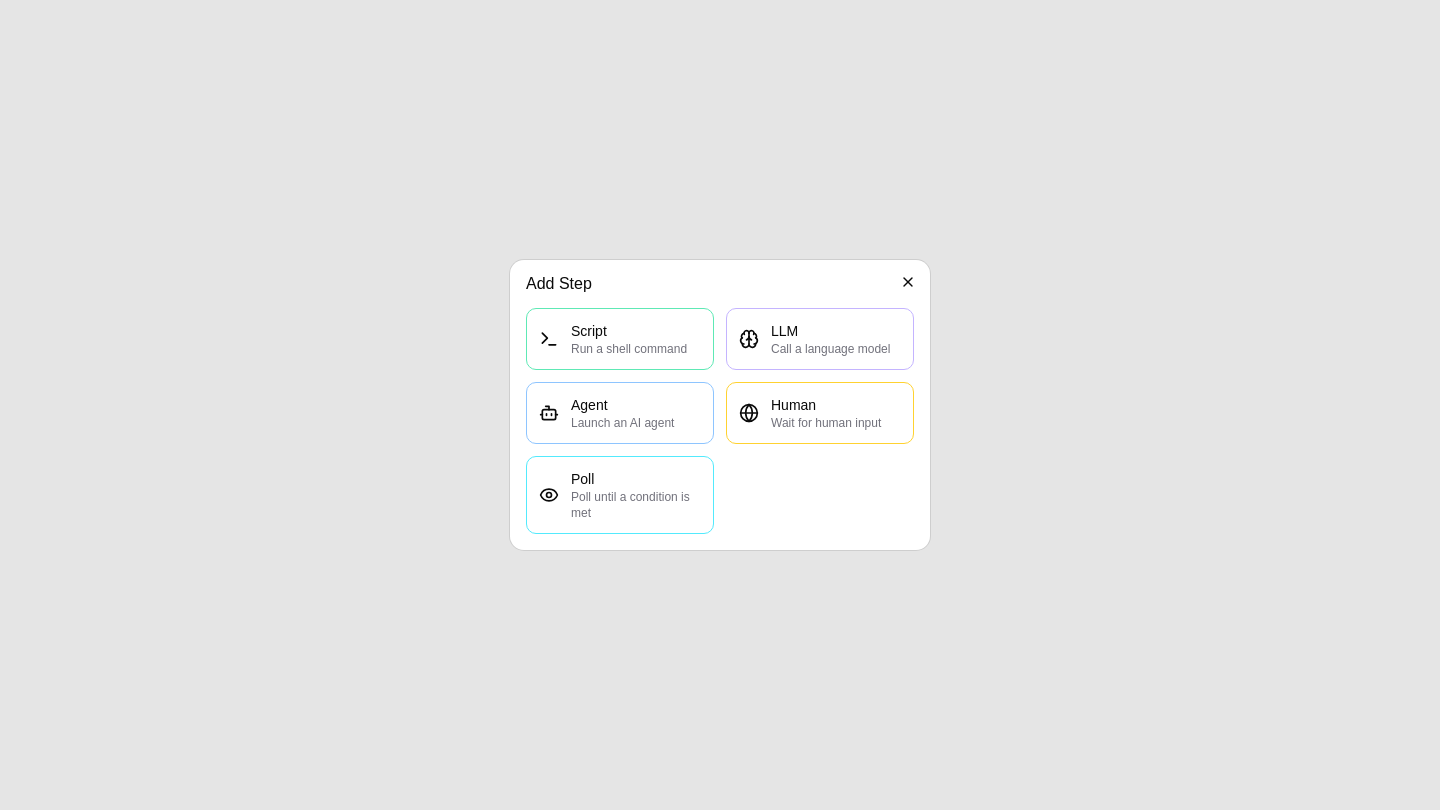
Scenario: StepPalette › back button returns to type selection
Step 1. Click the text "Script" → (589, 331), box [571,323,607,339]
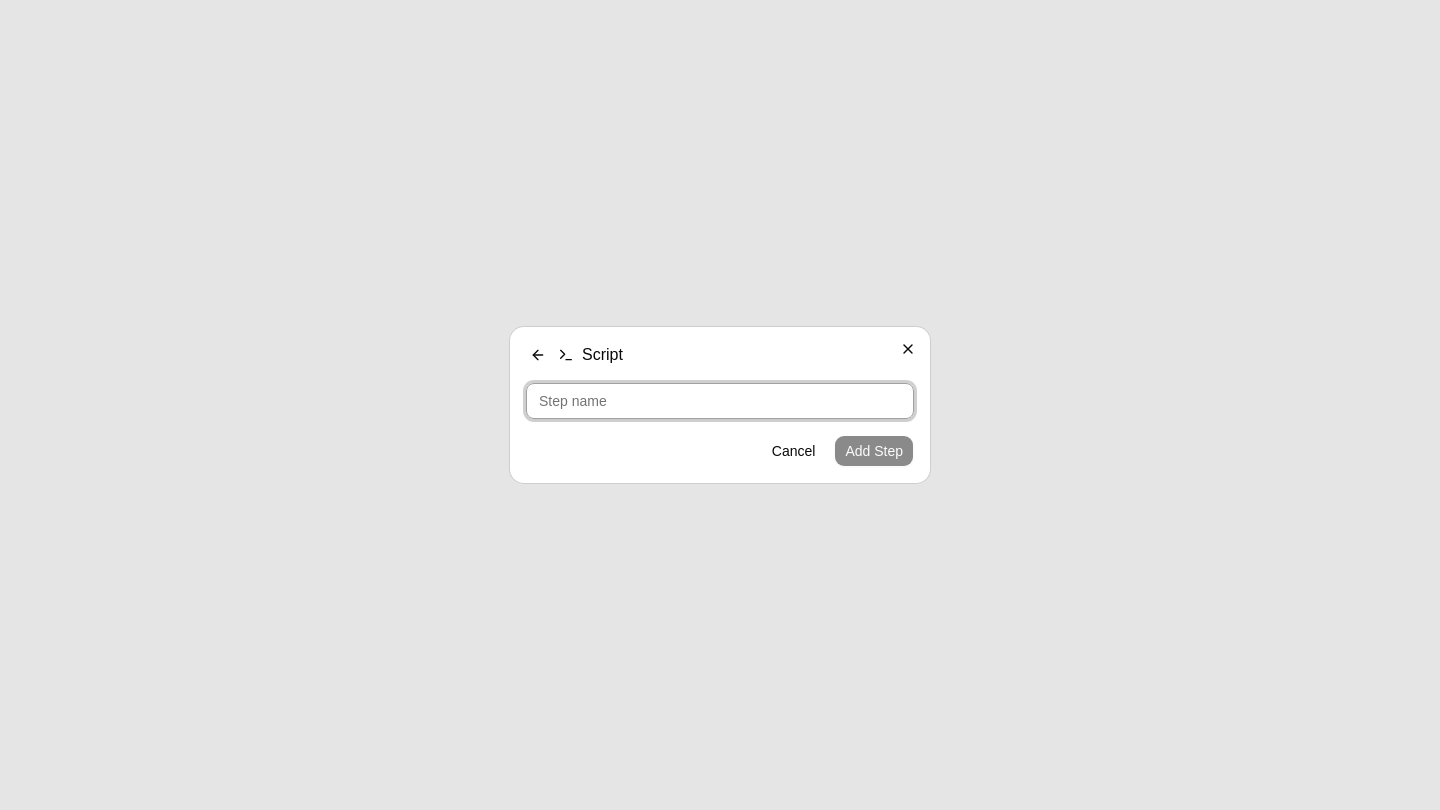
Step 2. Click the button titled "back" → (538, 355), box [526,343,550,367]
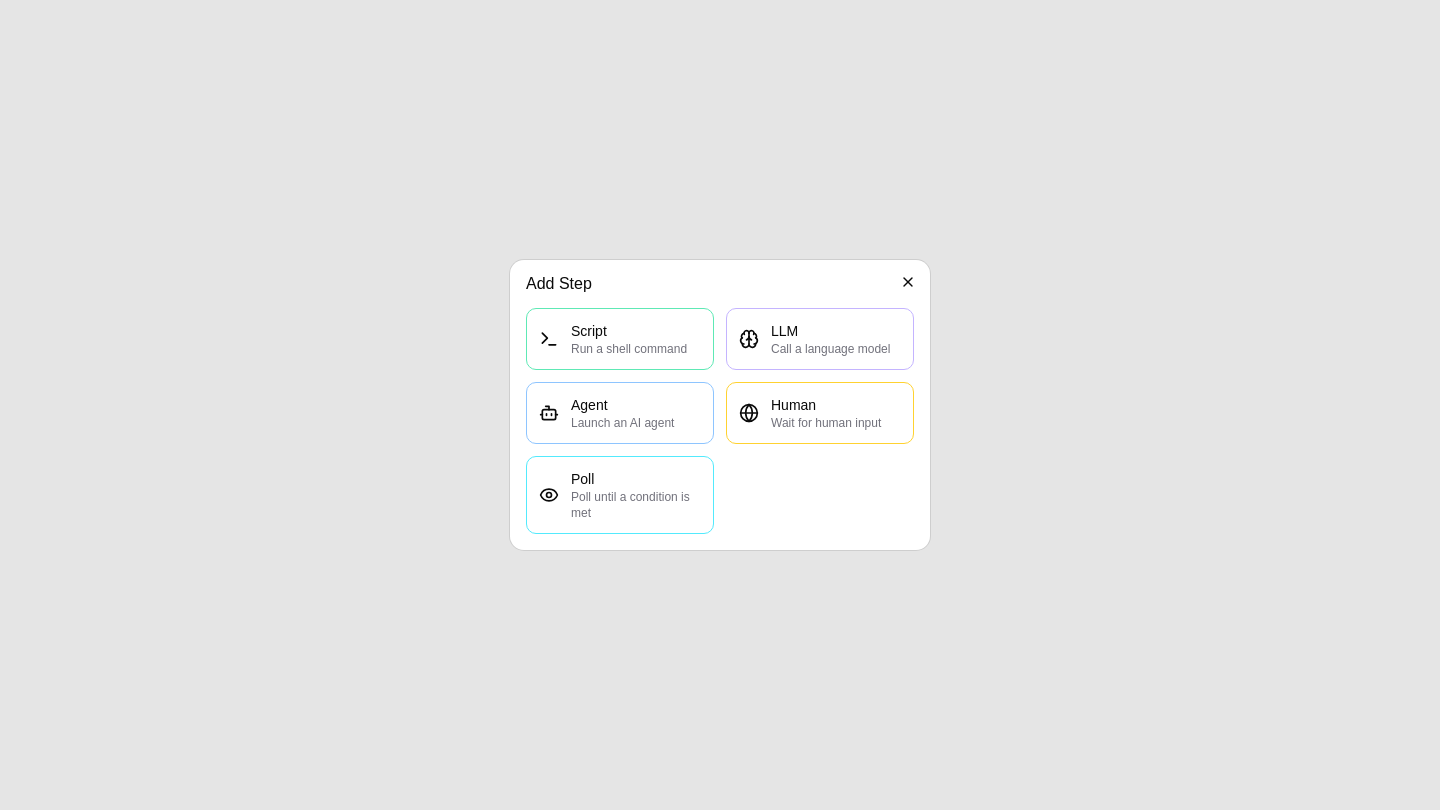
Expected: the field with placeholder "step name" is not shown
Expected: the text "LLM" is shown, [771,323,798,339]
